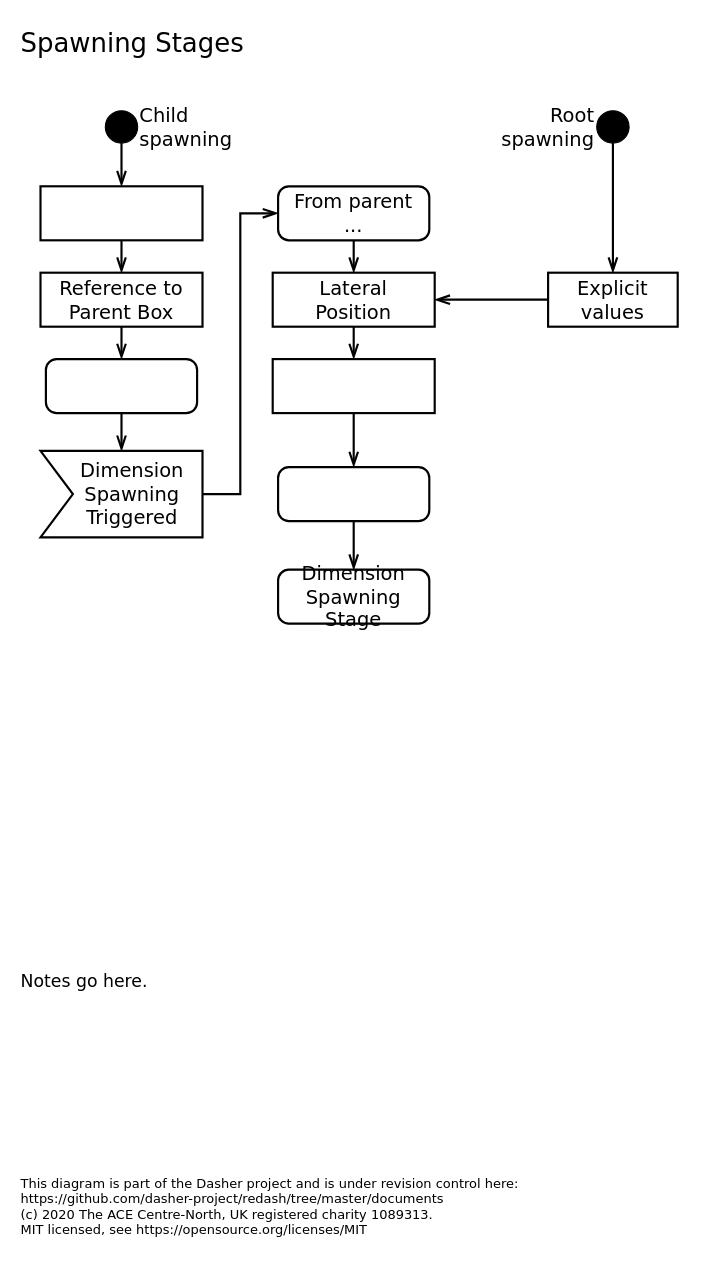
Image size: 728x1272. Some labels were removed from this diagram. The box of each missing label's shape, as (x1, y1, x2, y2) in pixels:
Incremental Text: (39, 185, 203, 241)
Lateral Size: (271, 357, 435, 414)
Solve Front Position: (276, 465, 430, 522)
Weight Spawning Stage: (44, 357, 198, 414)
